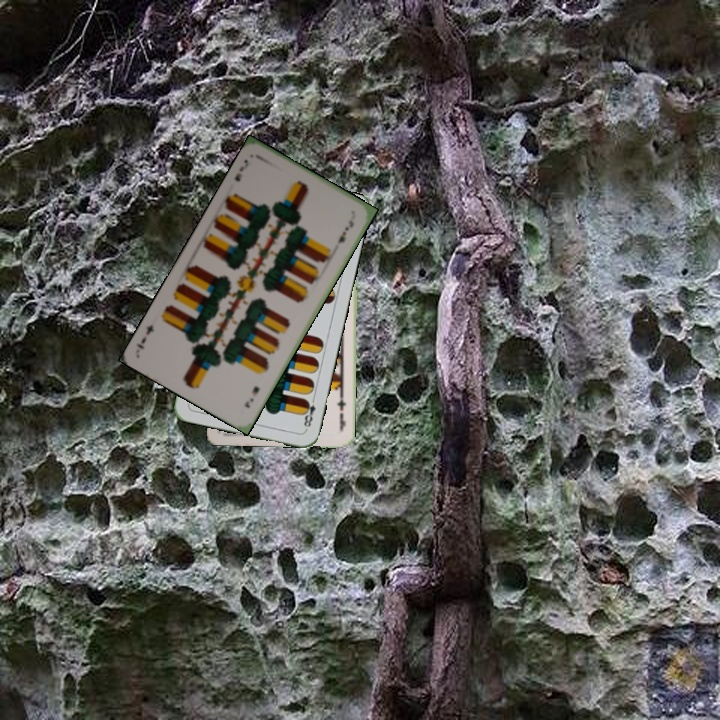E7: (333, 391, 349, 432), (240, 382, 262, 411), (230, 155, 251, 184)
E8: (299, 392, 318, 432)
